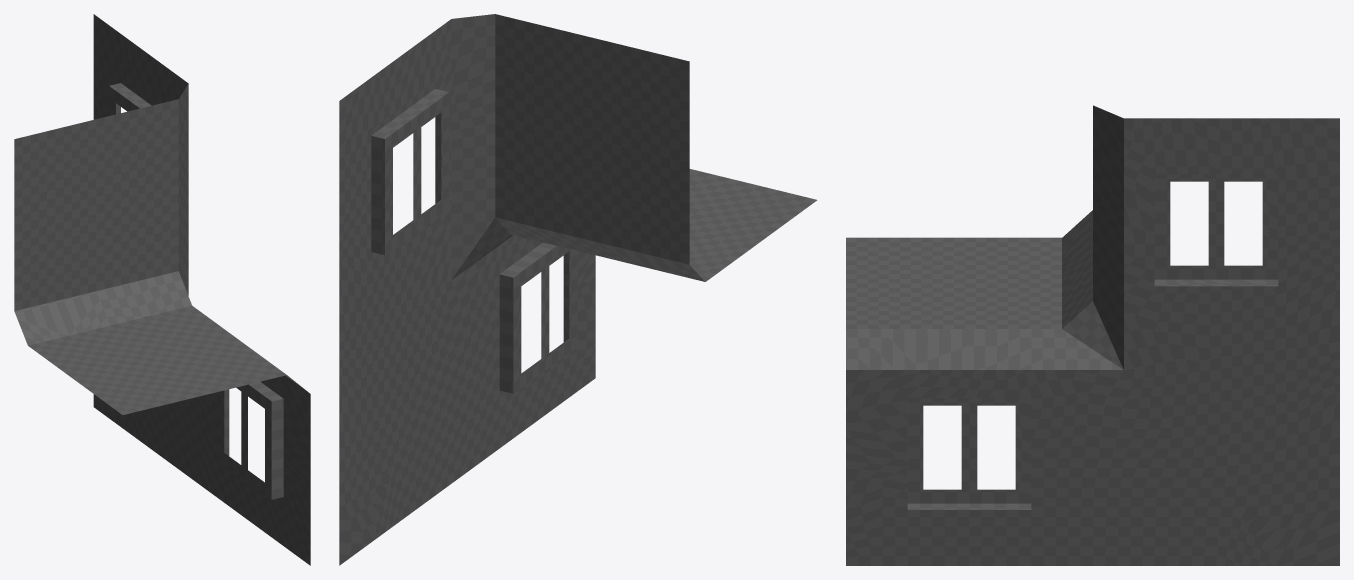
The picture shows the model from 3 angles, left to right: view 1: azimuth 30°, elevation 25°; view 2: azimuth 150°, elevation 25°; view 3: azimuth 270°, elevation 25°; orthographic projection. The views are drawn at different scales.
Visible parts, largest first — view 1: 2; view 2: 2; view 3: 2.
Boxes of the visible parts, bbox=[...] form: 2: bbox=[14, 14, 310, 565]; 2: bbox=[339, 14, 817, 565]; 2: bbox=[846, 105, 1339, 565].
Size of the model in its own units: 2 by 4 by 4.
2 materials, 2 textured.
